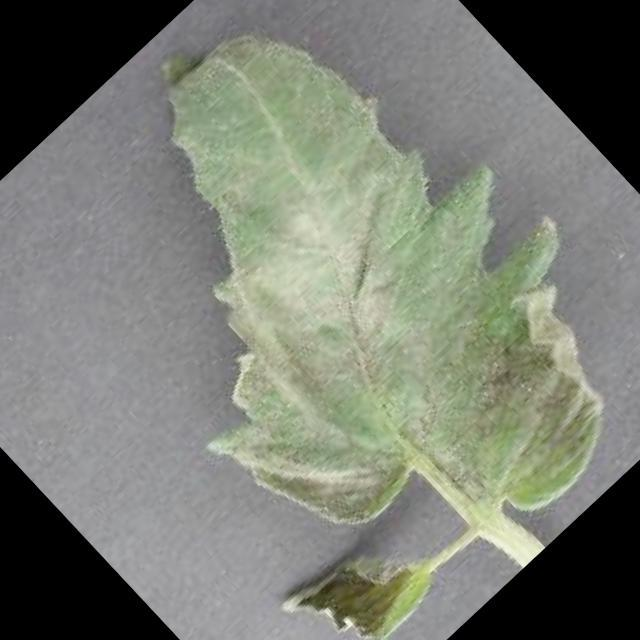Tomato late blight leaf: (0, 0, 640, 640), (274, 513, 443, 640)
